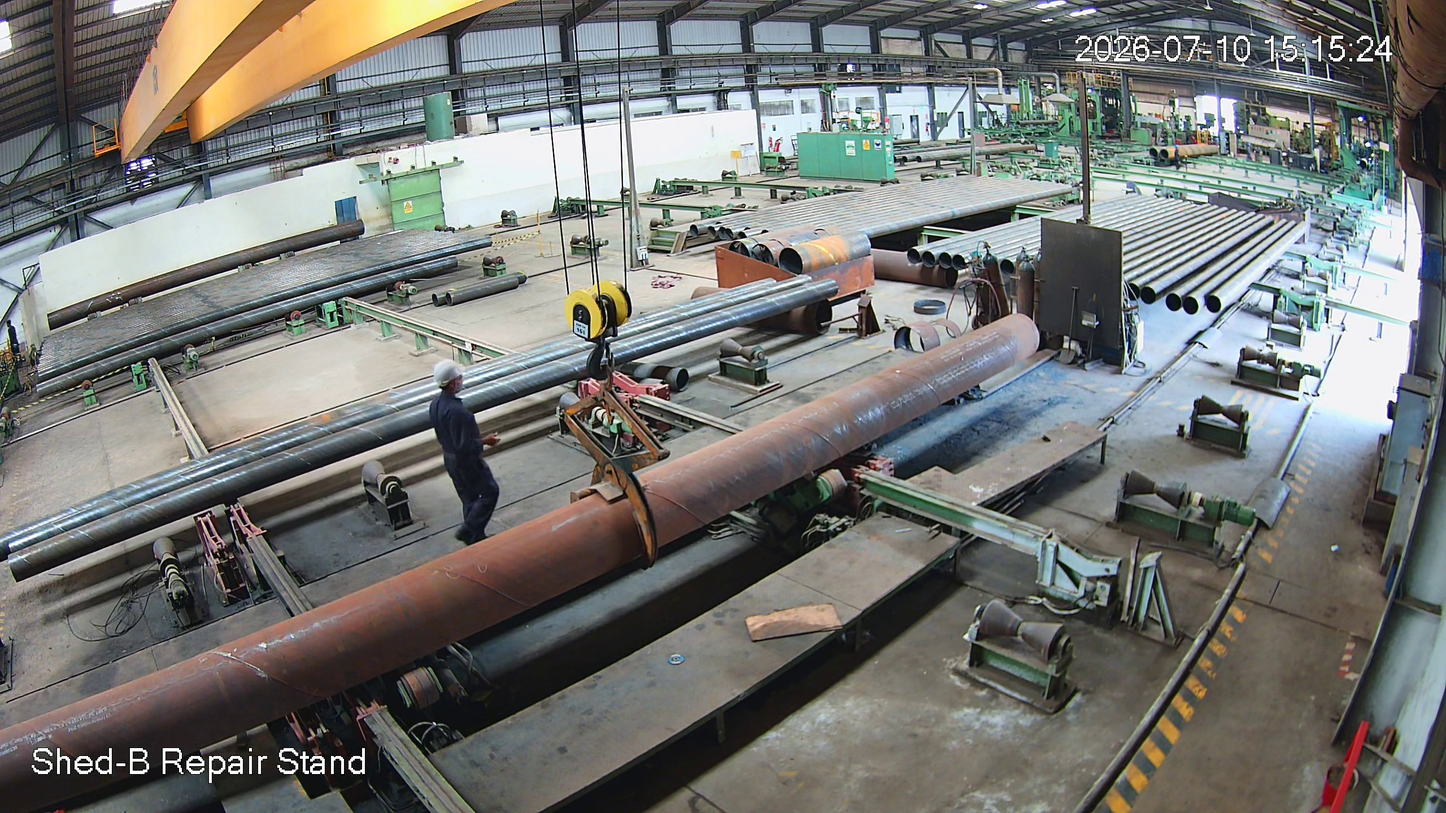Helmet: (425, 350, 470, 424)
Person: (416, 356, 520, 559)
